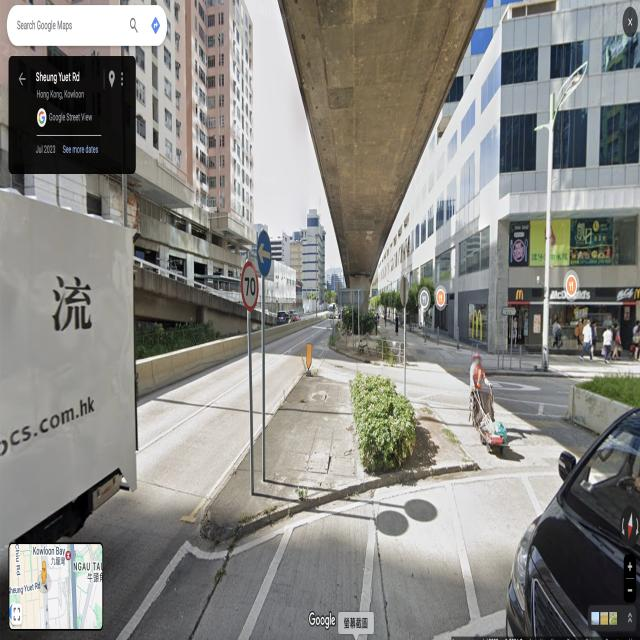Order-Sign: (240, 260, 258, 311), (256, 230, 272, 276)
